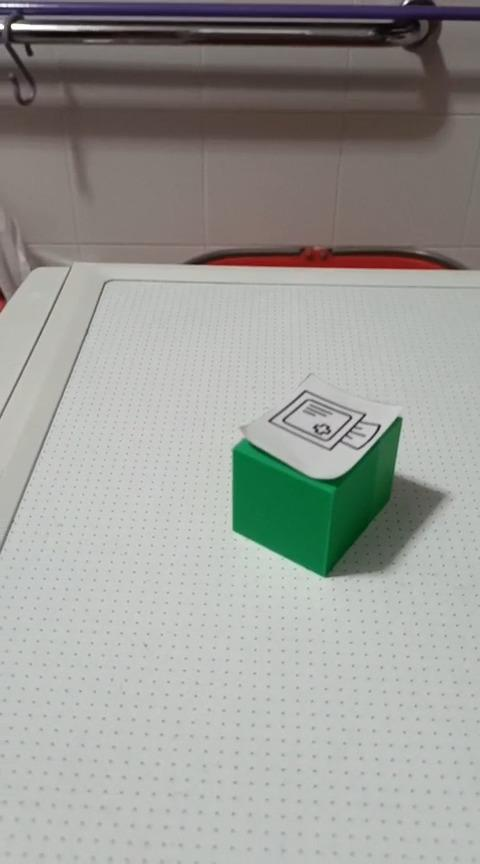Gauze: (230, 371, 403, 577)
